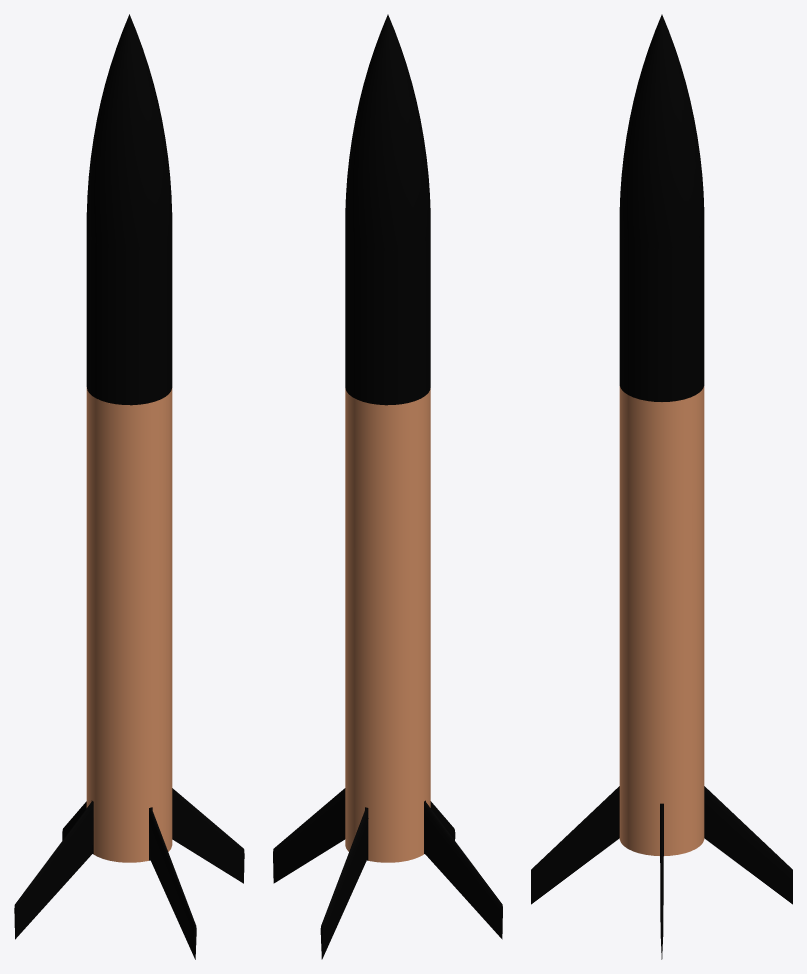
Rendered from rocket.glb.
3 views of the same model, side by side, from view 1: azimuth 30°, elevation 25°; view 2: azimuth 150°, elevation 25°; view 3: azimuth 270°, elevation 25° (orthographic).
Visible parts, largest first — view 1: фузелаж, перо 1 ново; view 2: фузелаж, перо 1 ново; view 3: фузелаж, перо 1 ново.
Part boxes in pixels (bbox=[...]): фузелаж: bbox=[86, 387, 172, 862]; перо 1 ново: bbox=[14, 14, 244, 959]; фузелаж: bbox=[345, 388, 430, 862]; перо 1 ново: bbox=[273, 14, 502, 959]; фузелаж: bbox=[619, 386, 704, 855]; перо 1 ново: bbox=[531, 14, 792, 959].
Size of the model in its own units: 0.3398 by 1.28 by 0.3398.
